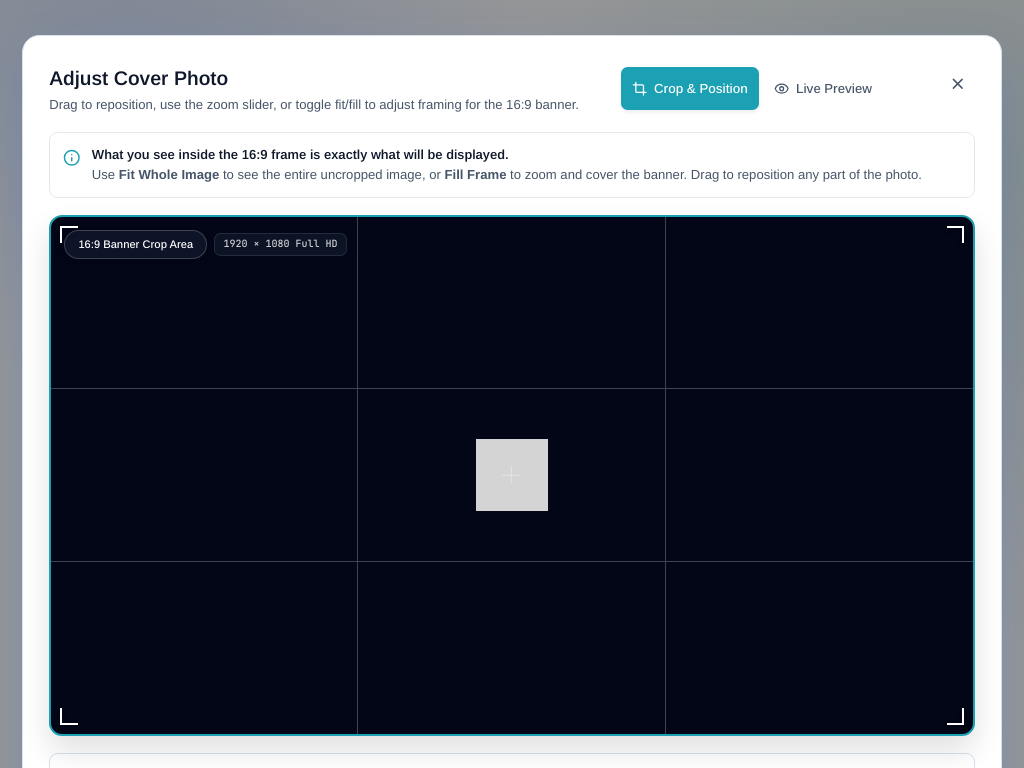
Test: CoverPhotoCropDialog › switches between Crop & Position and Live Preview tabs
Click the button "Live Preview" at (823, 88), box [763,67,883,110]
(page scrolled)
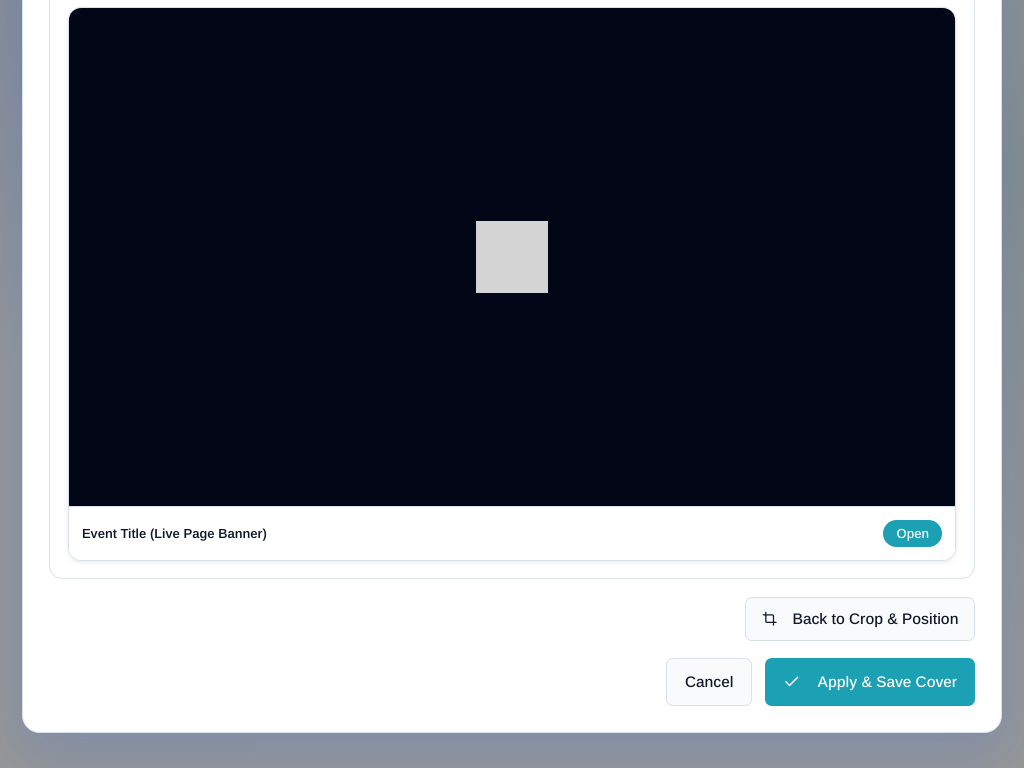
Check: the text "Event Title (Live Page Banner)" is shown, box [82,525,267,542]
Click the button "Back to Crop & Position" at (860, 619), box [746,597,975,641]
(page scrolled)
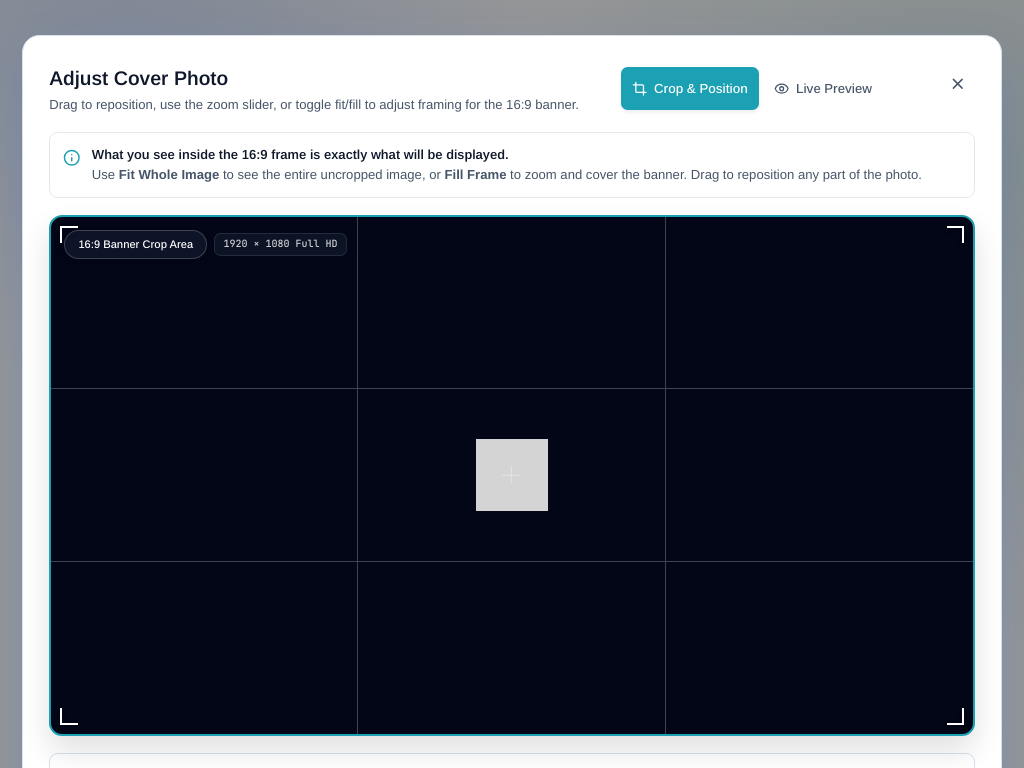
Check: the text "16:9 Banner Crop Area" is shown, box [64,230,207,259]
